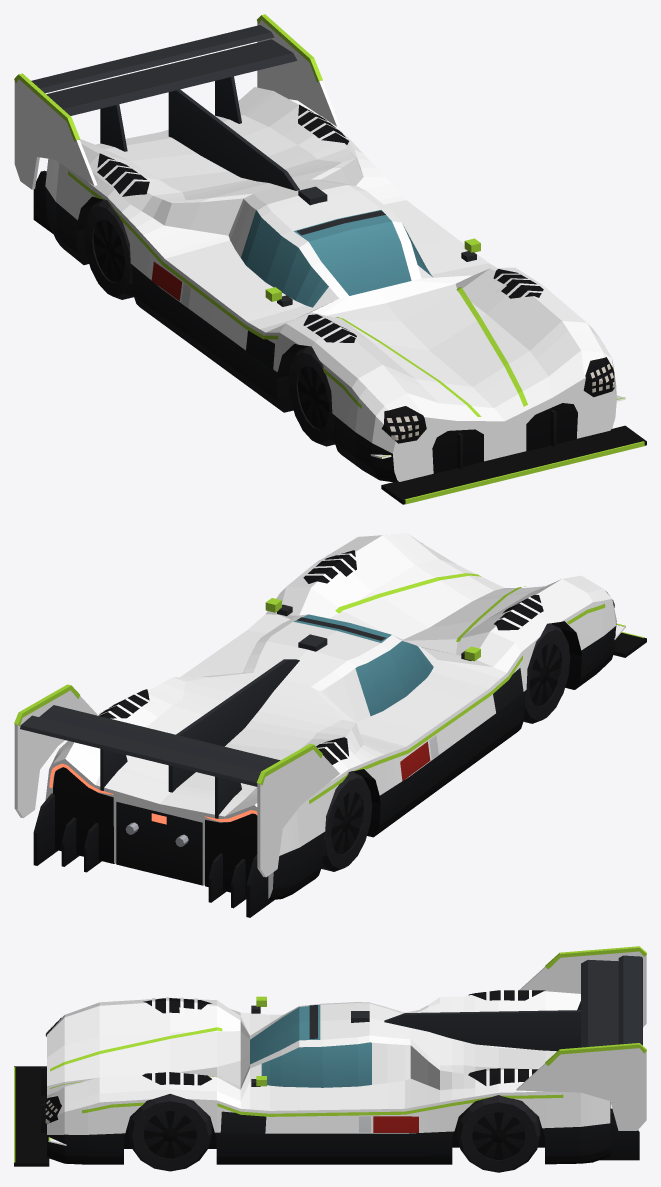
File: Valkyrie.fbx
3 views of the same model, one above another, from view 1: azimuth 30°, elevation 25°; view 2: azimuth 150°, elevation 25°; view 3: azimuth 270°, elevation 25° (orthographic). The views are drawn at different scales.
Visible parts, largest first — view 1: body, wheel-back-right, wheel-front-right; view 2: body, wheel-back-right, wheel-front-right; view 3: body, wheel-back-left, wheel-front-left.
Boxes of the visible parts, x1=… form: body: x1=14, y1=14, x2=646, y2=504; wheel-back-right: x1=84, y1=199, x2=133, y2=299; wheel-front-right: x1=288, y1=346, x2=335, y2=446; body: x1=14, y1=533, x2=646, y2=917; wheel-back-right: x1=321, y1=771, x2=372, y2=871; wheel-front-right: x1=523, y1=623, x2=570, y2=723; body: x1=14, y1=946, x2=646, y2=1166; wheel-back-left: x1=457, y1=1095, x2=540, y2=1172; wheel-front-left: x1=128, y1=1093, x2=211, y2=1171.
Bounding box in the file's own units: 2.01 × 1.23 × 5.39.
